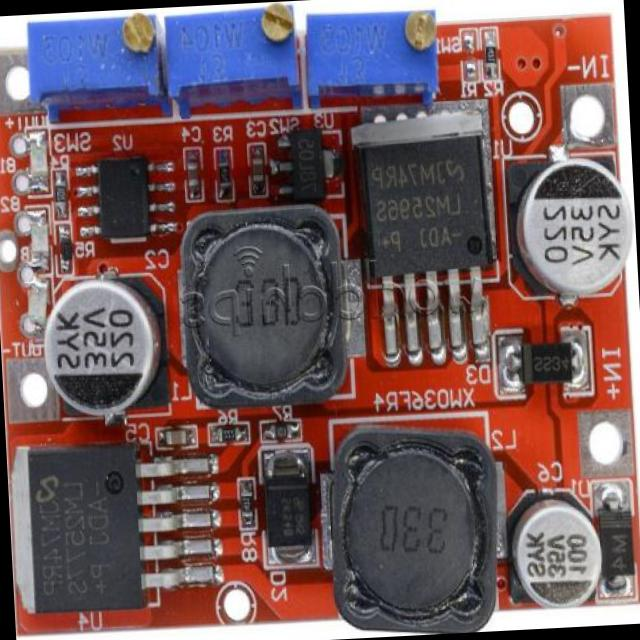IC: (19, 440, 198, 618), (362, 122, 501, 347), (88, 150, 168, 247), (281, 133, 336, 204)
LED: (29, 130, 50, 198), (22, 276, 46, 330), (29, 211, 50, 262)
capacitor: (46, 281, 172, 429), (507, 148, 630, 296), (514, 490, 604, 610), (250, 150, 264, 188), (162, 428, 188, 448), (187, 162, 202, 192)
diode: (260, 451, 317, 569), (600, 482, 638, 604), (504, 333, 580, 391)
potentiometer: (301, 0, 442, 112), (166, 2, 302, 117), (24, 8, 164, 112)
resistor: (213, 156, 233, 202), (239, 480, 257, 528), (484, 34, 502, 80), (212, 426, 248, 445), (262, 424, 299, 439), (54, 178, 69, 215), (57, 228, 71, 260)
